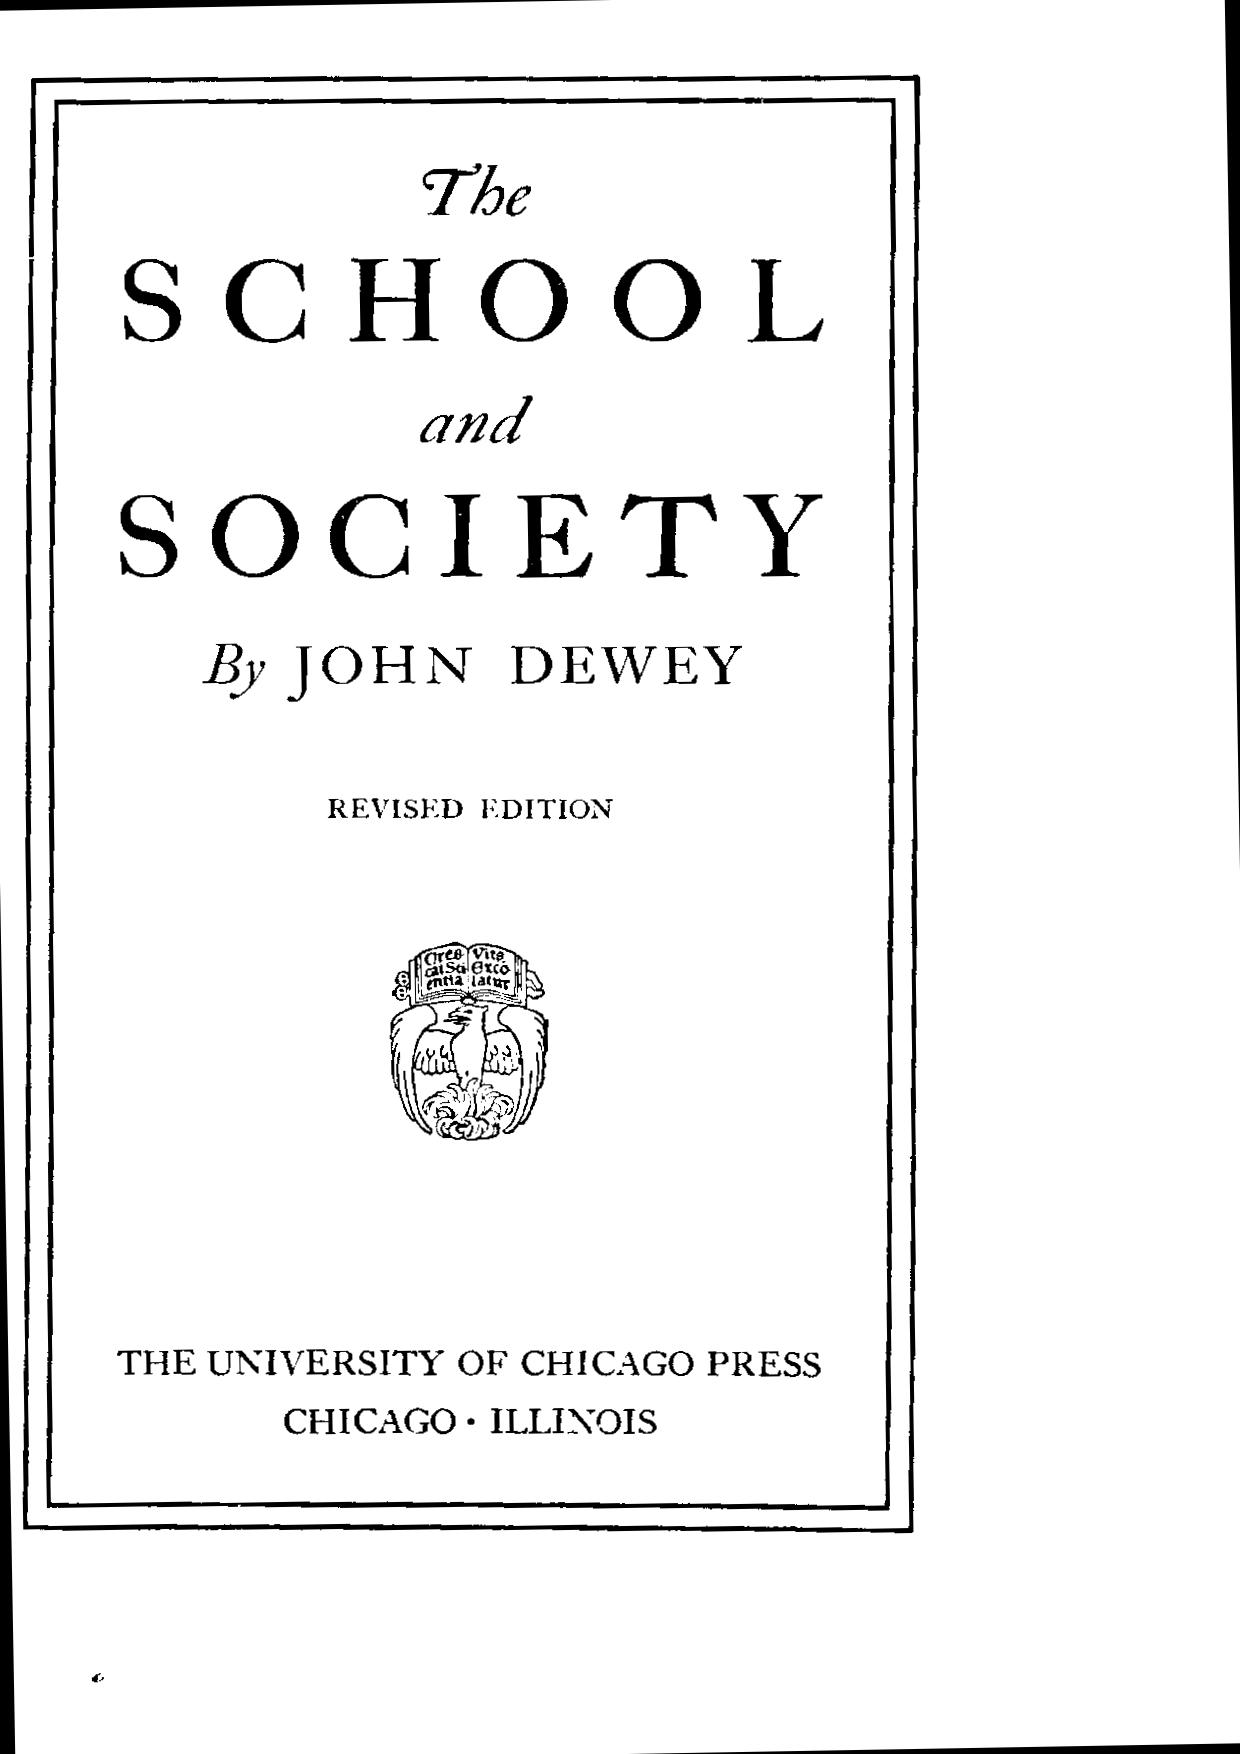author: (193, 640, 742, 705)
title: (115, 158, 824, 584)
